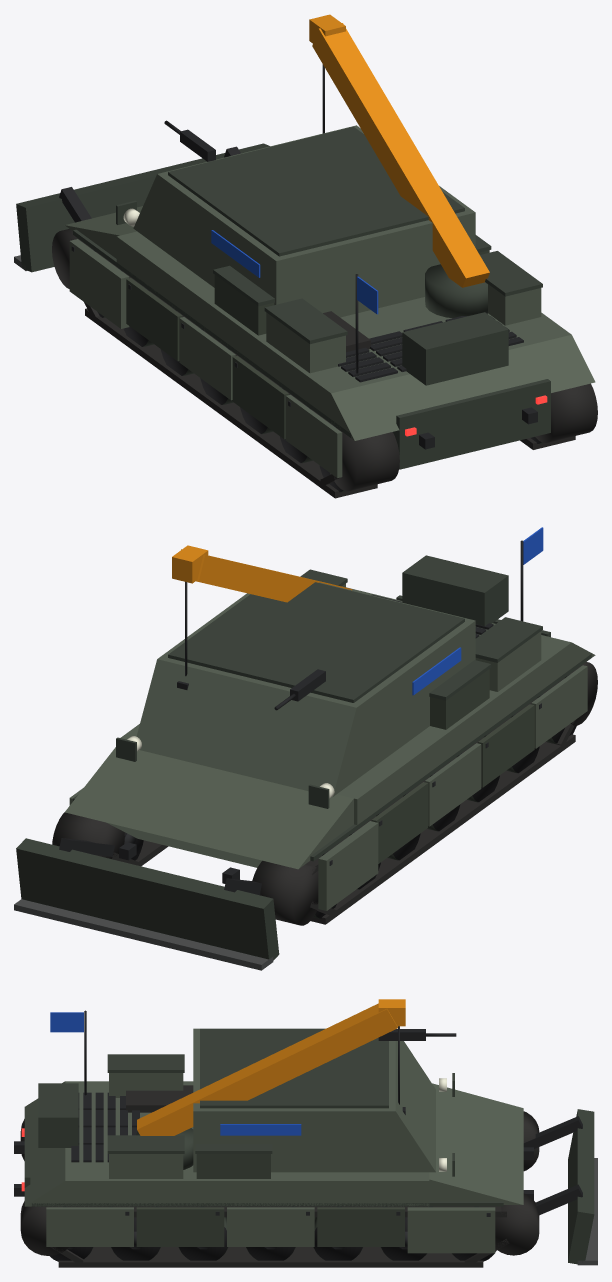
Rendered from Recovery_Blue.fbx.
3 renders of one model, top to bottom at view 1: azimuth 30°, elevation 25°; view 2: azimuth 150°, elevation 25°; view 3: azimuth 270°, elevation 25°, orthographic. The views are drawn at different scales.
Parts seen in each view (by area): view 1: SuperRoof, Superstructure, UpperHull, CraneBoom, RearSlope, Winch, DozerBlade, LowerHull, RearPlate, TrackBottomL, SkirtL0, TrackWrapRearL (+18 smaller); view 2: SuperRoof, SuperNose, Glacis, DozerBlade, UpperHull, Superstructure, Winch, TrackBottomL, SkirtL0, BladeEdge, CraneBoom, TrackWrapFrontL (+16 smaller); view 3: UpperHull, Superstructure, SuperRoof, Glacis, CraneBoom, TrackBottomR, SuperNose, SkirtR0, SkirtR3, SkirtR1, SkirtR4, SkirtR2 (+29 smaller).
Part boxes in pixels (x1,y1,x2,y2): SuperRoof: (168, 126, 464, 256); Superstructure: (157, 125, 475, 317); UpperHull: (116, 231, 571, 420); CraneBoom: (312, 23, 489, 287); RearSlope: (331, 334, 595, 440); Winch: (402, 312, 508, 385); DozerBlade: (16, 143, 269, 272); LowerHull: (393, 393, 550, 468); RearPlate: (396, 379, 550, 469); TrackBottomL: (85, 308, 377, 498); SkirtL0: (69, 239, 129, 328); TrackWrapRearL: (330, 427, 399, 491); SuperRoof: (168, 582, 464, 702); SuperNose: (136, 659, 356, 796); Glacis: (65, 747, 353, 869); DozerBlade: (16, 838, 279, 960); UpperHull: (120, 587, 571, 825); Superstructure: (157, 582, 475, 779); Winch: (402, 555, 508, 626); TrackBottomL: (311, 734, 575, 924); SkirtL0: (318, 821, 378, 910); BladeEdge: (14, 899, 273, 970); CraneBoom: (181, 549, 352, 602); TrackWrapFrontL: (252, 860, 318, 925); UpperHull: (65, 1081, 429, 1206); Superstructure: (193, 1028, 395, 1172); SuperRoof: (200, 1028, 388, 1108); Glacis: (429, 1083, 523, 1204); CraneBoom: (137, 1003, 397, 1135); TrackBottomR: (58, 1247, 483, 1267); SuperNose: (395, 1041, 435, 1172); SkirtR0: (407, 1207, 495, 1253); SkirtR3: (136, 1207, 224, 1246); SkirtR1: (317, 1207, 404, 1246); SkirtR4: (46, 1207, 133, 1246); SkirtR2: (227, 1207, 314, 1246).
Size of the model in its own units: 376 by 866 by 397.
